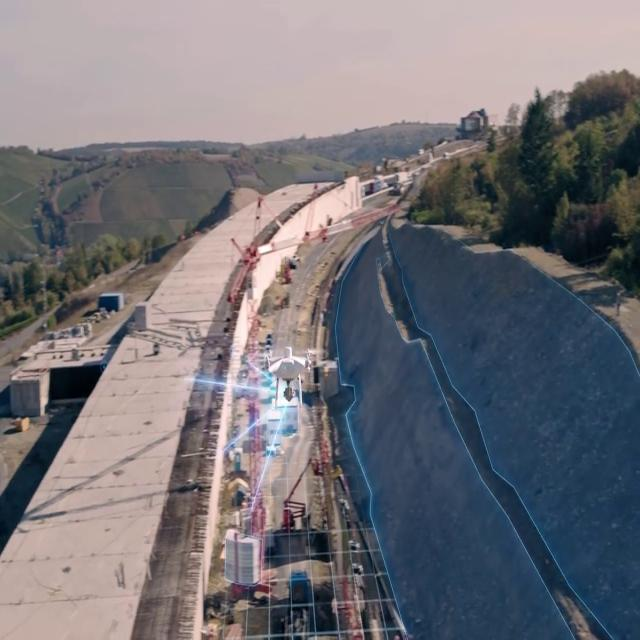drone: (257, 342, 322, 412)
